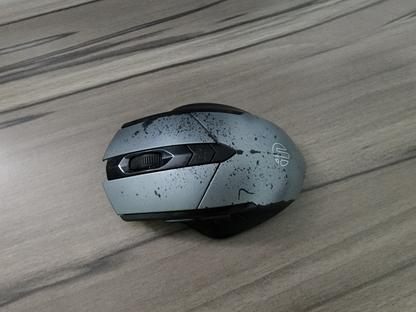mouse: (101, 101, 307, 240)
